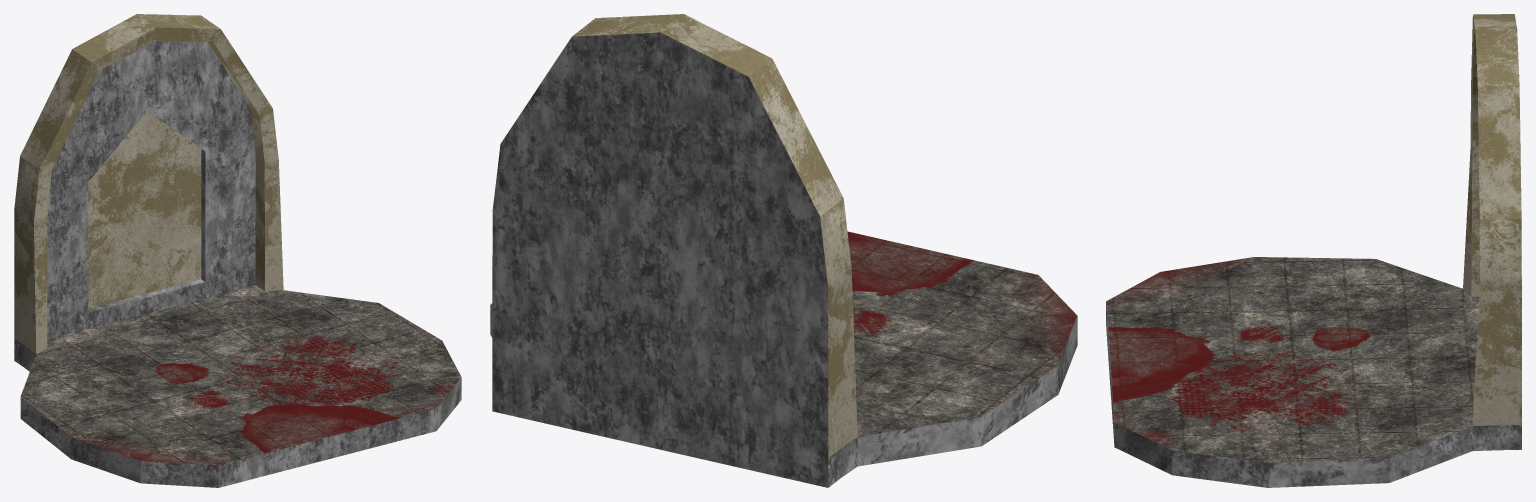
File: Throne_Foudation.fbx
3 views of the same model, side by side, from view 1: azimuth 30°, elevation 25°; view 2: azimuth 150°, elevation 25°; view 3: azimuth 270°, elevation 25° (orthographic). The views are drawn at different scales.
Parts seen in each view (by area): view 1: Throne_Foudation; view 2: Throne_Foudation; view 3: Throne_Foudation.
Part boxes in pixels (x1,y1,x2,y2): Throne_Foudation: (14,14,461,487); Throne_Foudation: (490,14,1077,487); Throne_Foudation: (1106,14,1521,487).
Size of the model in its own units: 7.31 by 5.83 by 6.23.
Materials: 1 (1 with a texture image).
